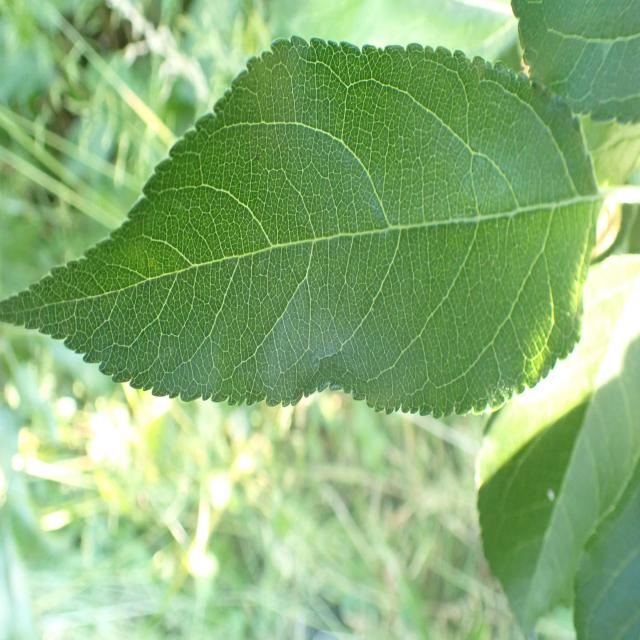healthy: (0, 35, 602, 418), (474, 254, 640, 637), (510, 0, 640, 125), (572, 464, 640, 640)
